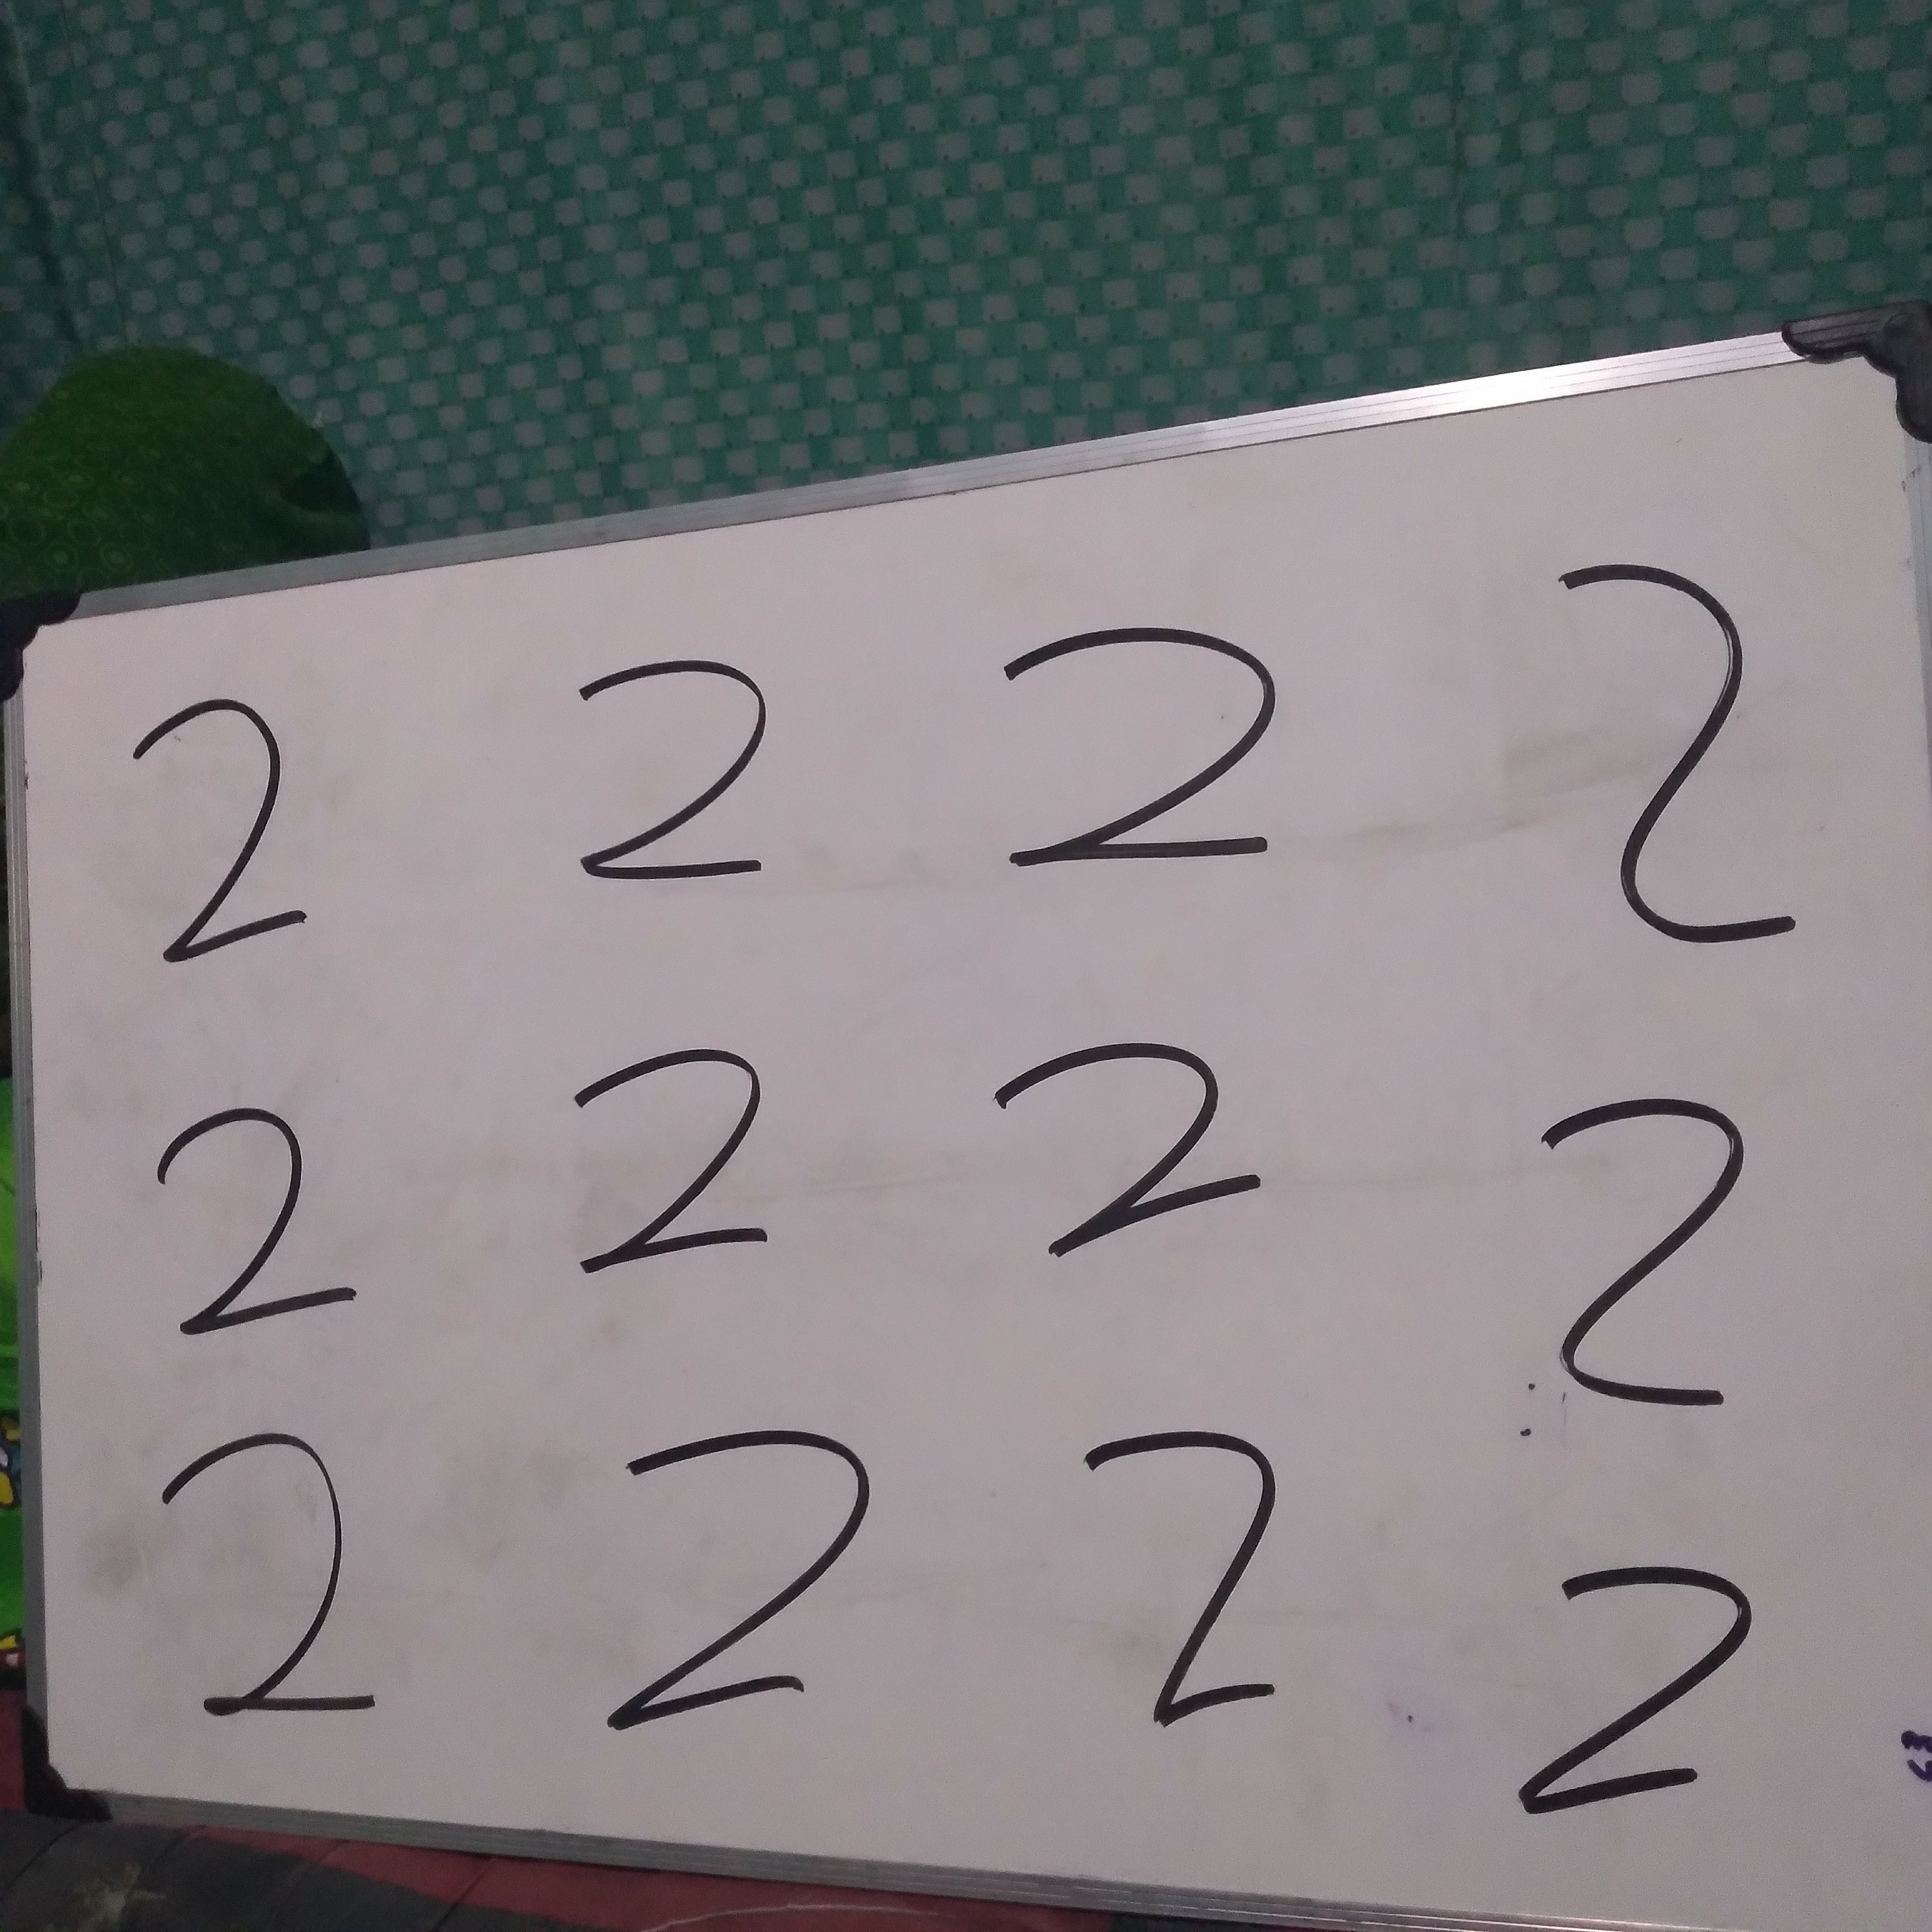num2: (1507, 549, 1823, 985), (588, 1406, 892, 1741), (1480, 1081, 1784, 1415), (1483, 1508, 1787, 1843), (972, 985, 1276, 1319), (985, 615, 1289, 949), (107, 659, 345, 1000), (566, 607, 805, 948), (140, 1030, 379, 1371), (147, 1406, 385, 1747), (1074, 1405, 1313, 1746), (551, 977, 790, 1318)
